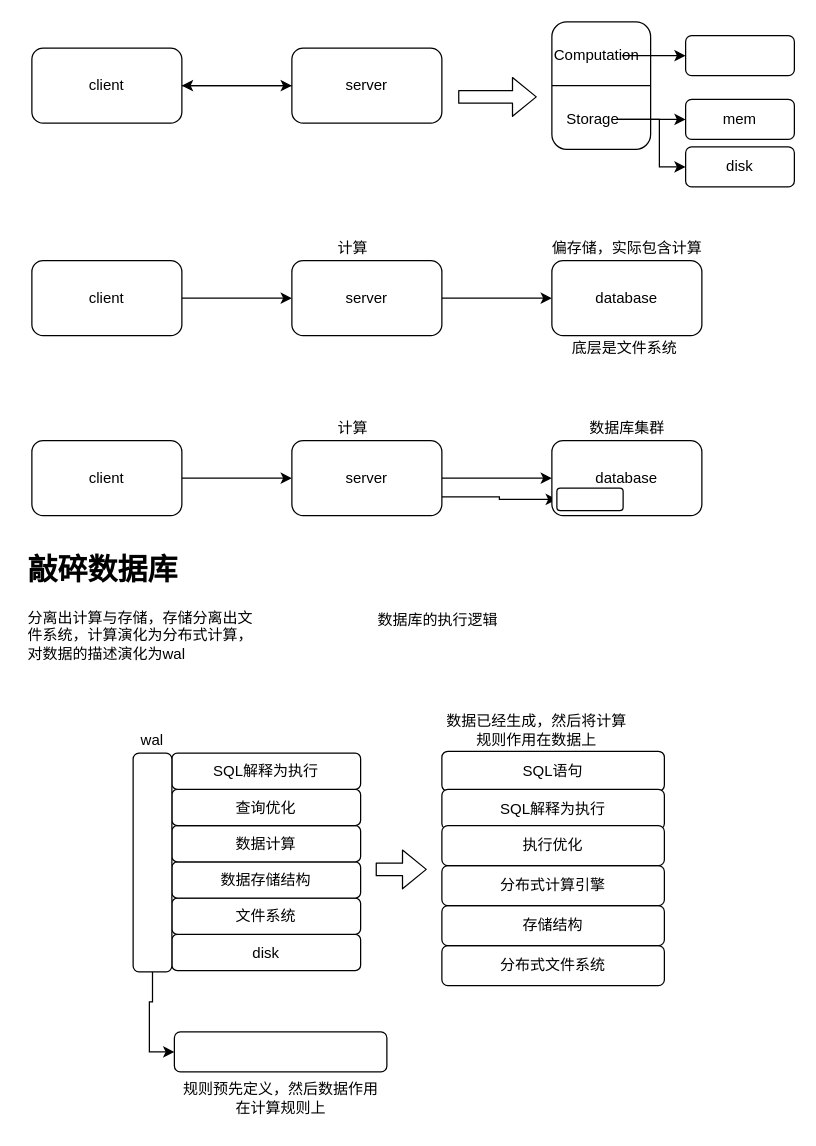
This 816x1146 diagram has some shape labels left out. The shapes that lost their labels are listed below. From the top down, each one's centre as x and y in pixels, then its label:
point (739, 55): cpu
point (589, 499): 协同节点
point (280, 1051): 流计算引擎
